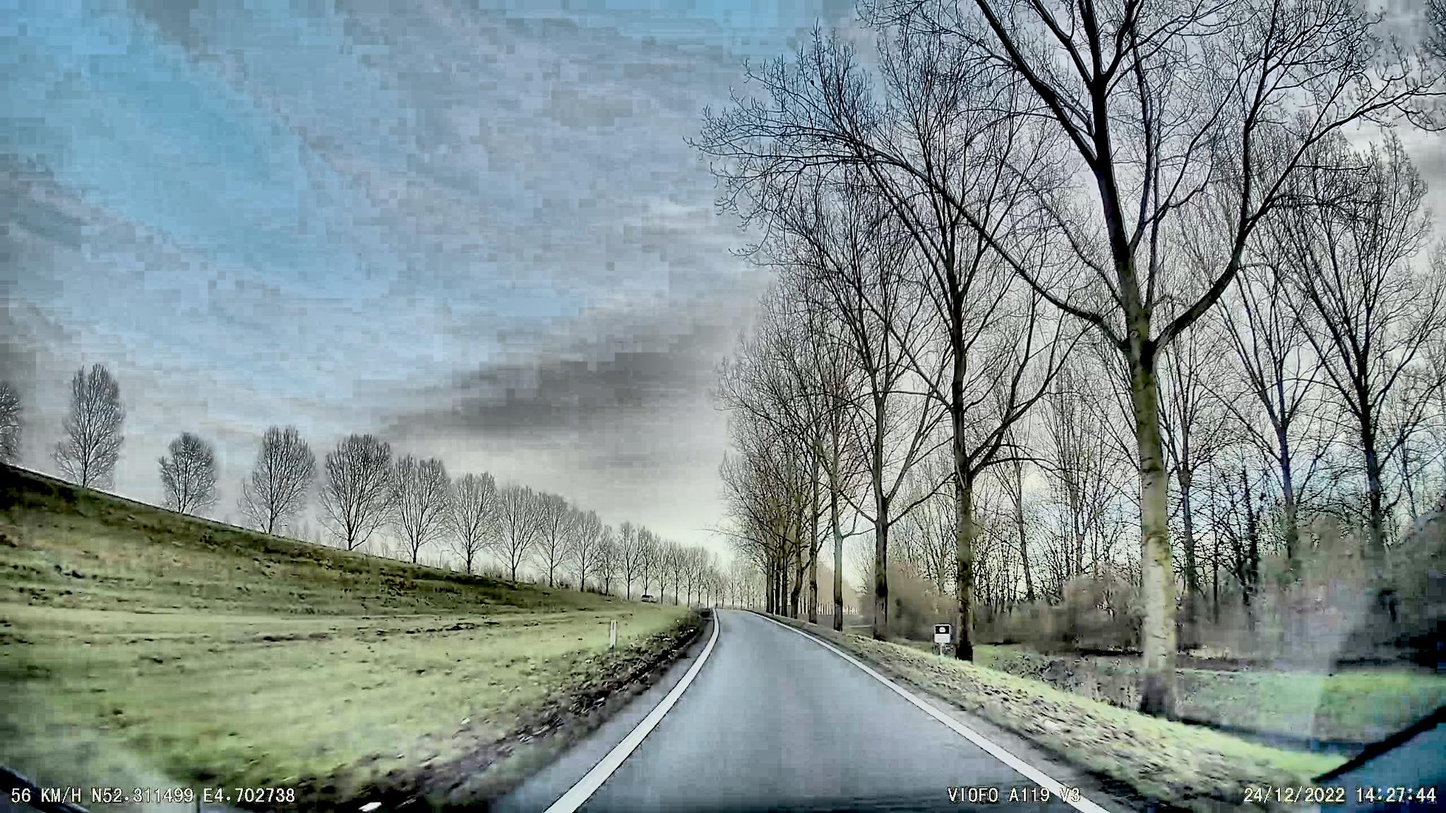Roads: (433, 610, 1187, 813)
